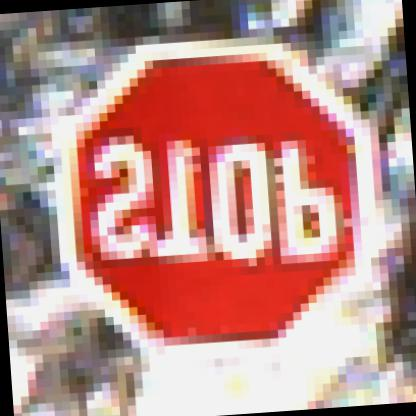stop: (19, 20, 403, 367)
